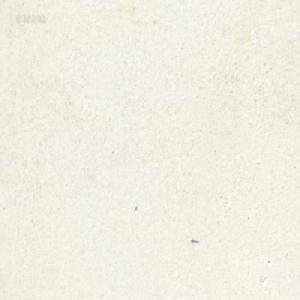Nail: (191, 237, 199, 243)
